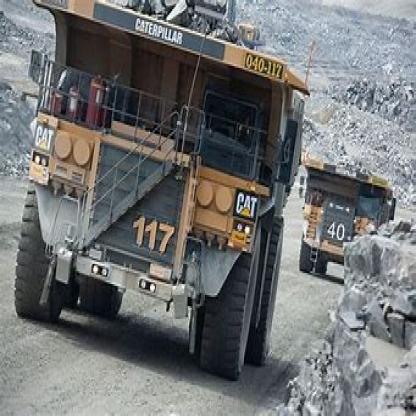dump_truck: (14, 2, 298, 383), (300, 146, 393, 288)
